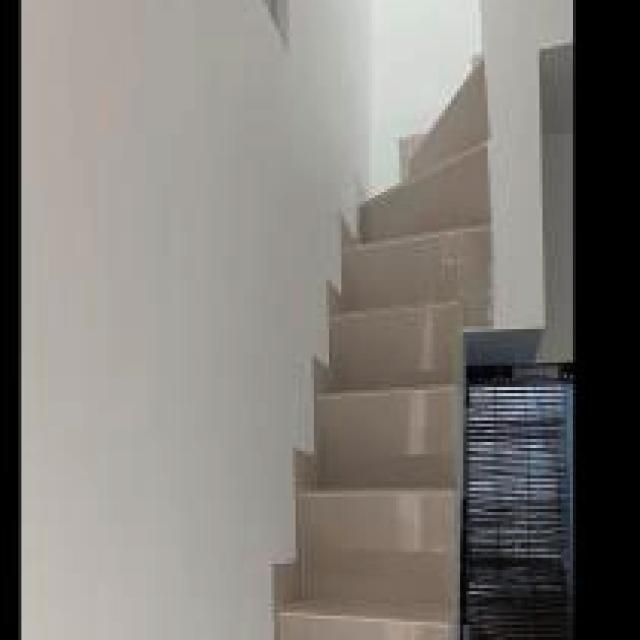upstair: (288, 153, 465, 640)
